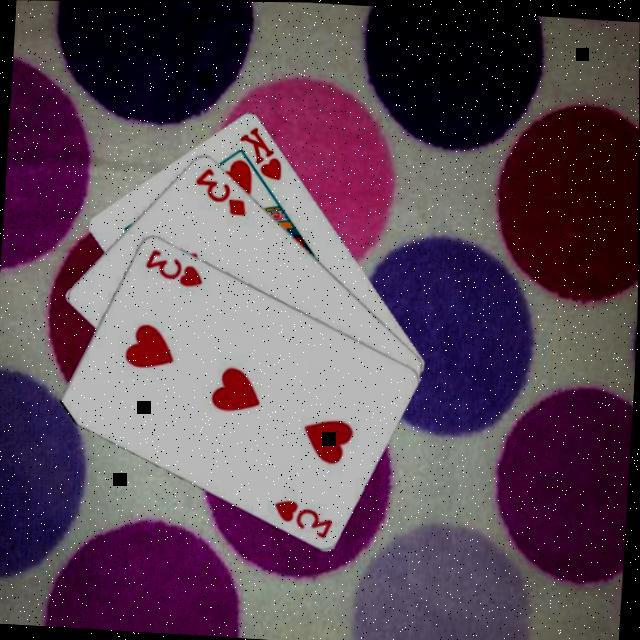3D: (192, 164, 253, 220)
3H: (272, 496, 338, 542), (143, 246, 209, 290)
KH: (236, 123, 289, 184)
